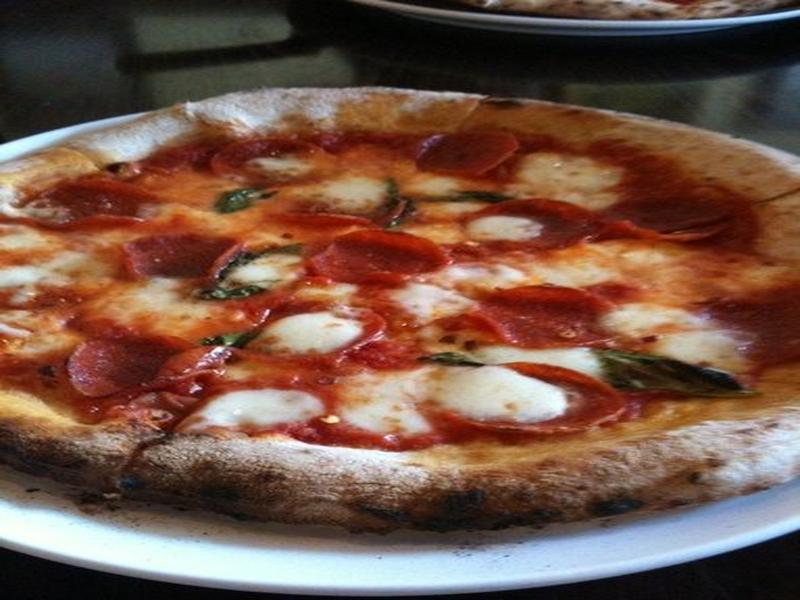pizza: (15, 75, 800, 593)
